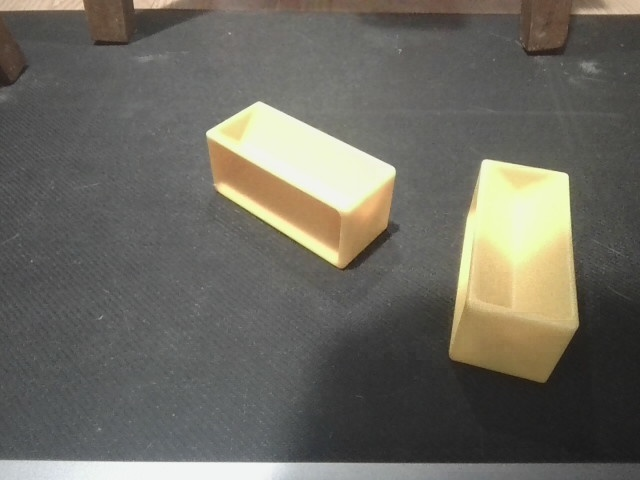YellowSample: (201, 97, 398, 276), (448, 154, 581, 389)
